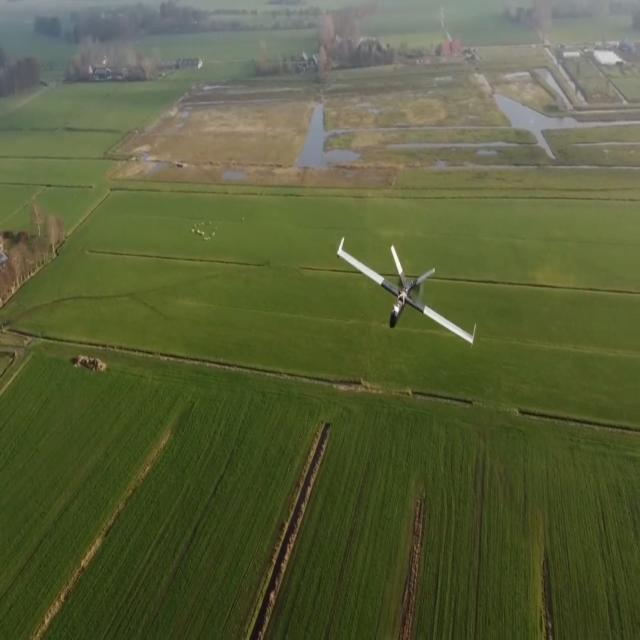iha: (335, 260, 479, 316)
